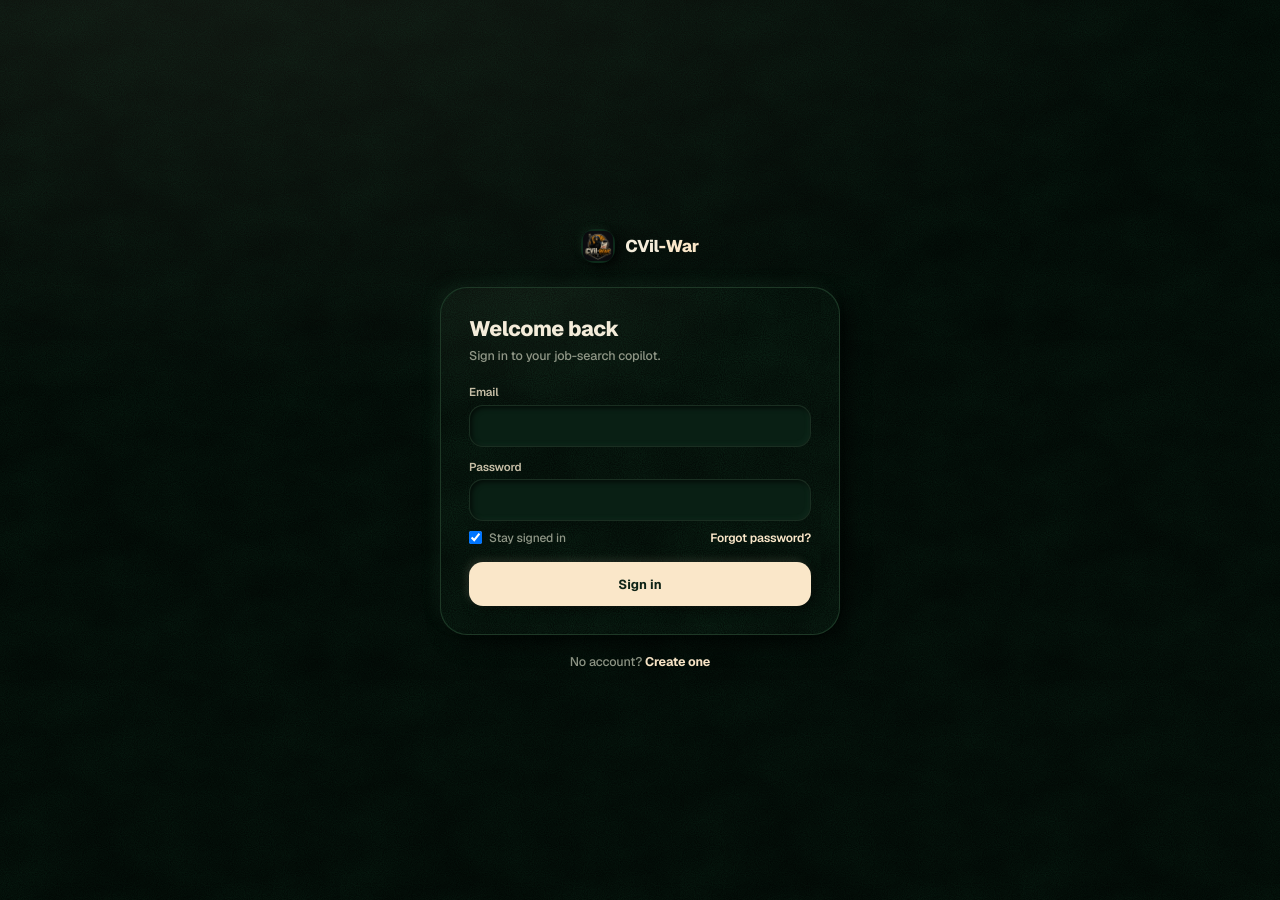
LoginPage error handling › shows a credential message on a 401
This screenshot has width=1280, height=900.
Type "me@test.dev" into the field labelled "Email" at (640,426), box [469,405,811,447]
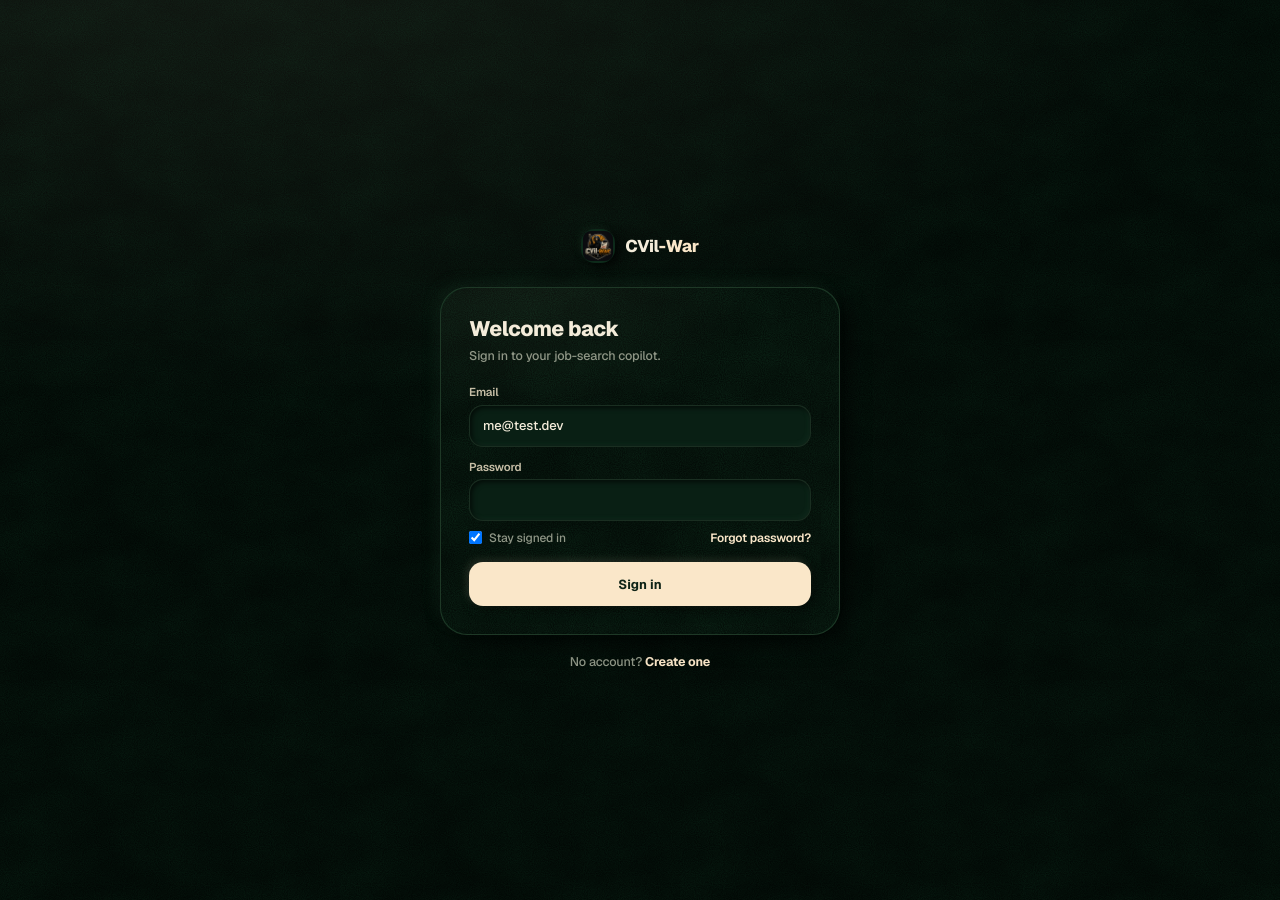
Type "whatever123" into the password field labelled "Password" at (640,500), box [469,479,811,521]
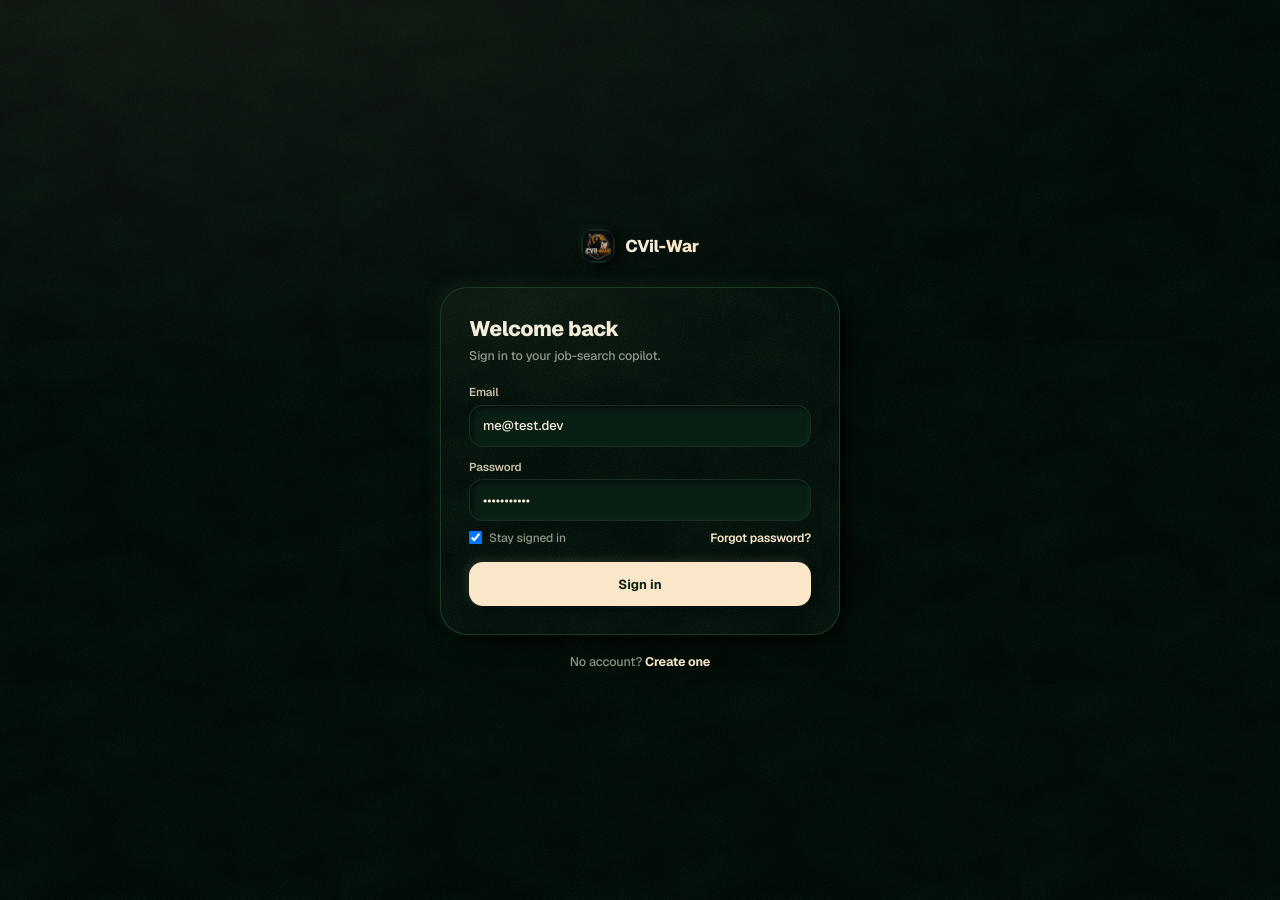
Click the button "Sign in" at (640,584), box [469,562,811,606]
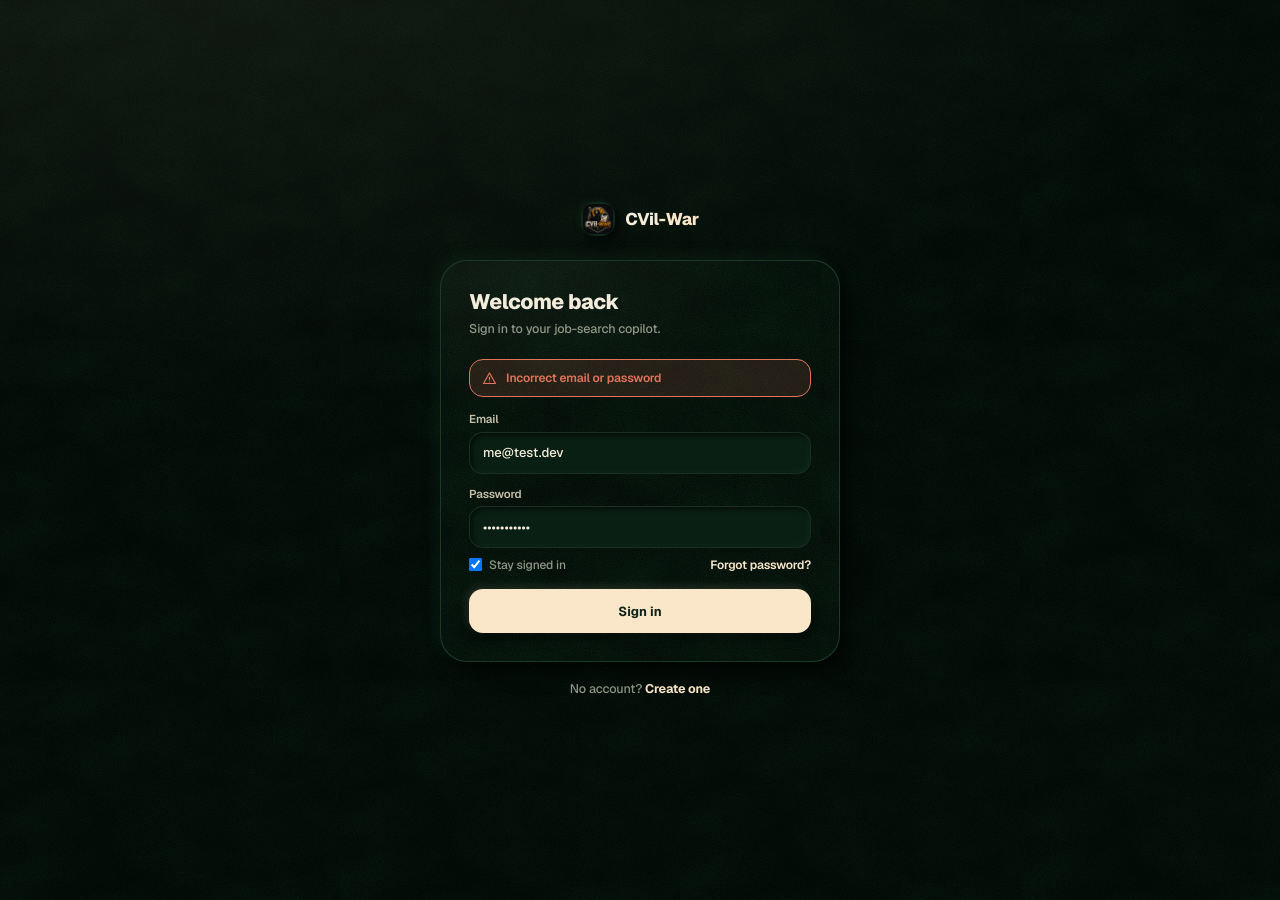
Expected: the text "Incorrect email or password" is shown, [469,359,811,397]
